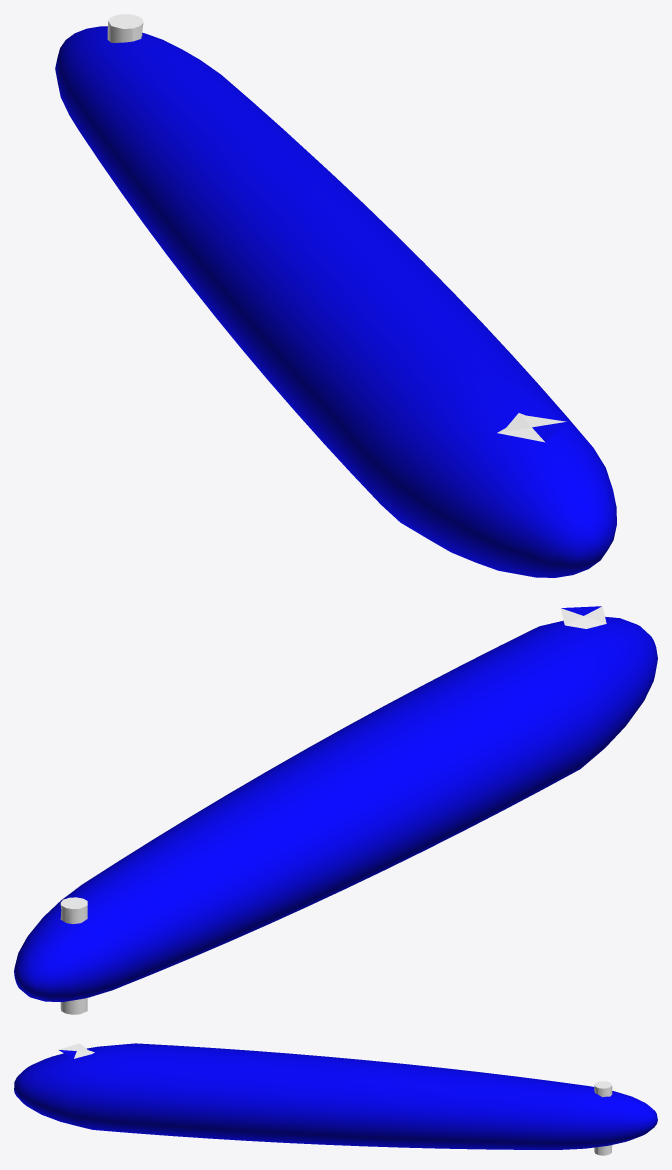
The model's file is leg_right.obj.
The picture shows the model from 3 angles, top to bottom: view 1: azimuth 30°, elevation 25°; view 2: azimuth 150°, elevation 25°; view 3: azimuth 270°, elevation 25°; orthographic projection. The views are drawn at different scales.
Parts seen in each view (by area): view 1: Mesh1 Component_1_1 Model, Mesh2 Component_1_1 Model; view 2: Mesh1 Component_1_1 Model, Mesh2 Component_1_1 Model; view 3: Mesh1 Component_1_1 Model, Mesh2 Component_1_1 Model.
Boxes of the visible parts, x1,y1,x2,y2 form: Mesh1 Component_1_1 Model: [55, 14, 616, 577]; Mesh2 Component_1_1 Model: [497, 413, 566, 442]; Mesh1 Component_1_1 Model: [14, 616, 657, 1014]; Mesh2 Component_1_1 Model: [561, 606, 606, 628]; Mesh1 Component_1_1 Model: [14, 1043, 657, 1155]; Mesh2 Component_1_1 Model: [58, 1043, 94, 1058].
Bounding box in the file's own units: 0.0538 × 0.0301 × 0.223.
